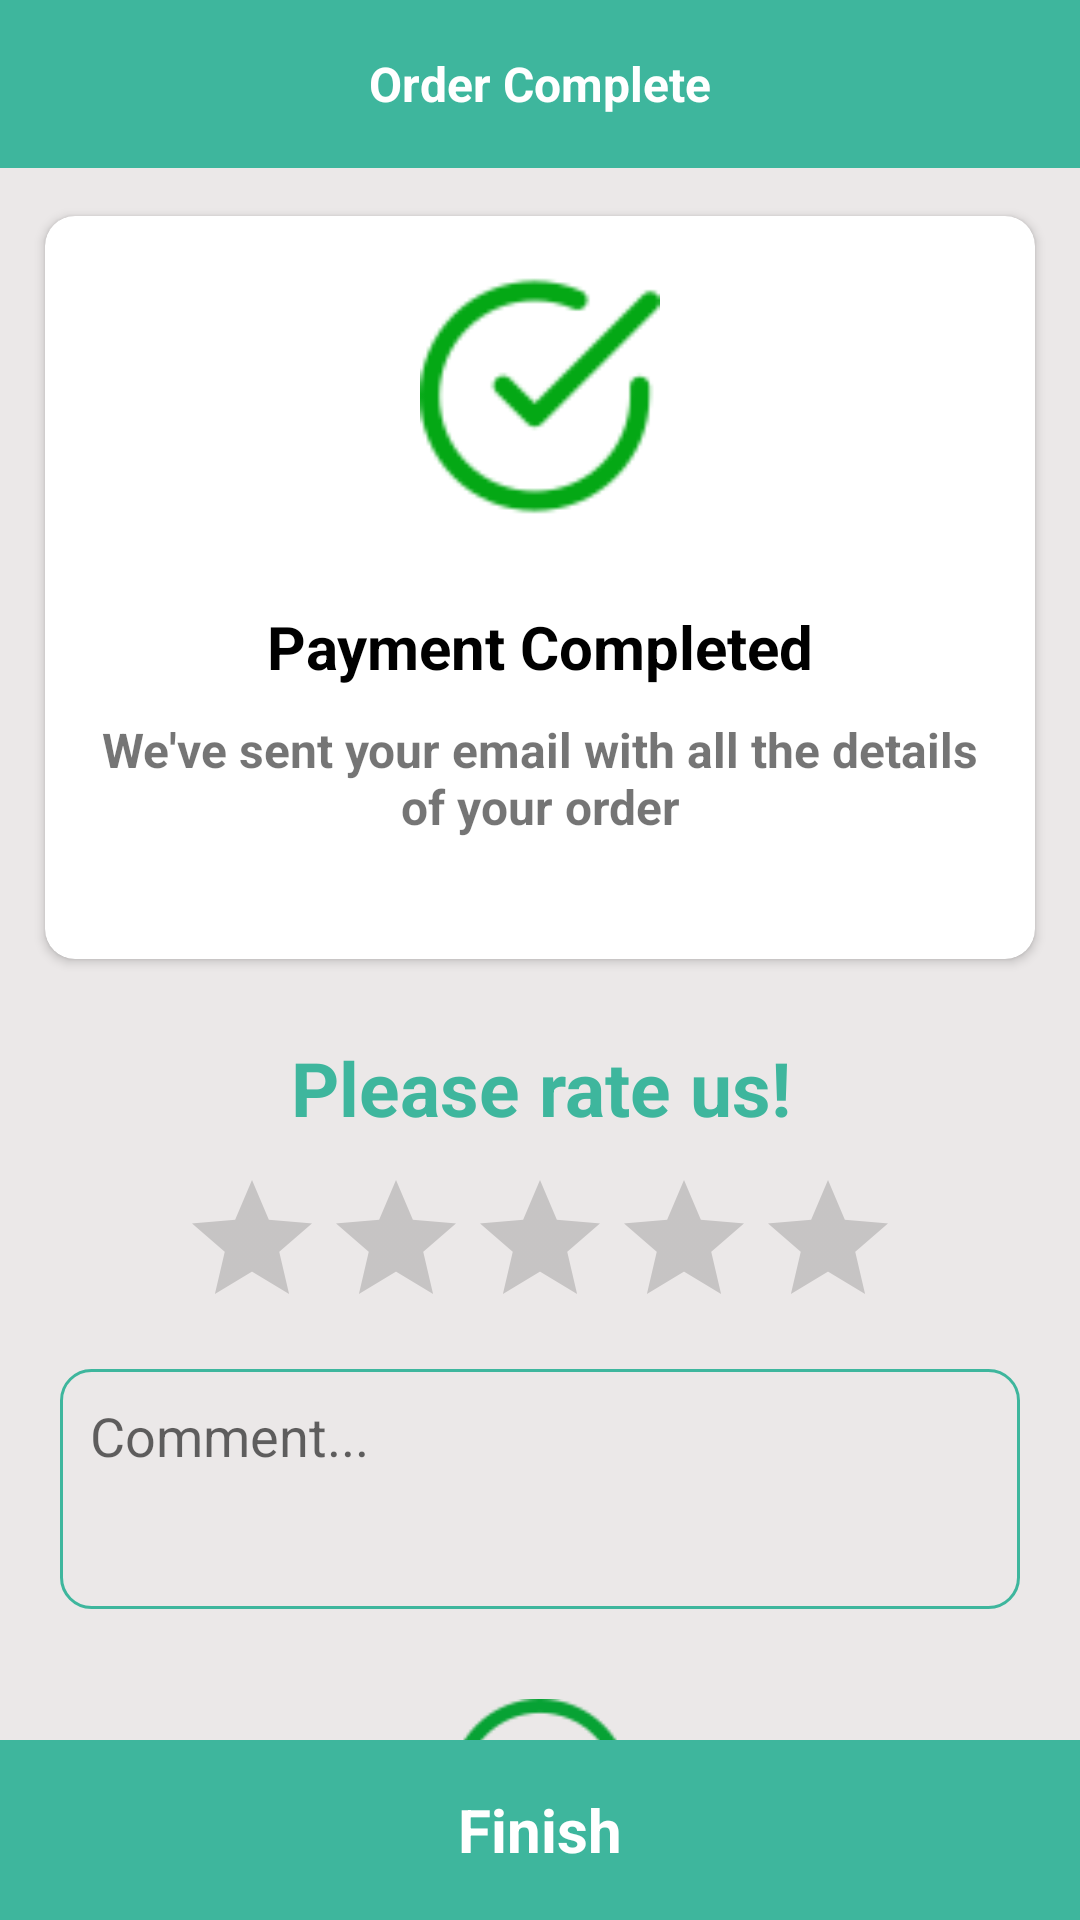

Screen size 1080×1920. Icon name, then its center in pixels as [x,y]:
check: [540,396]
